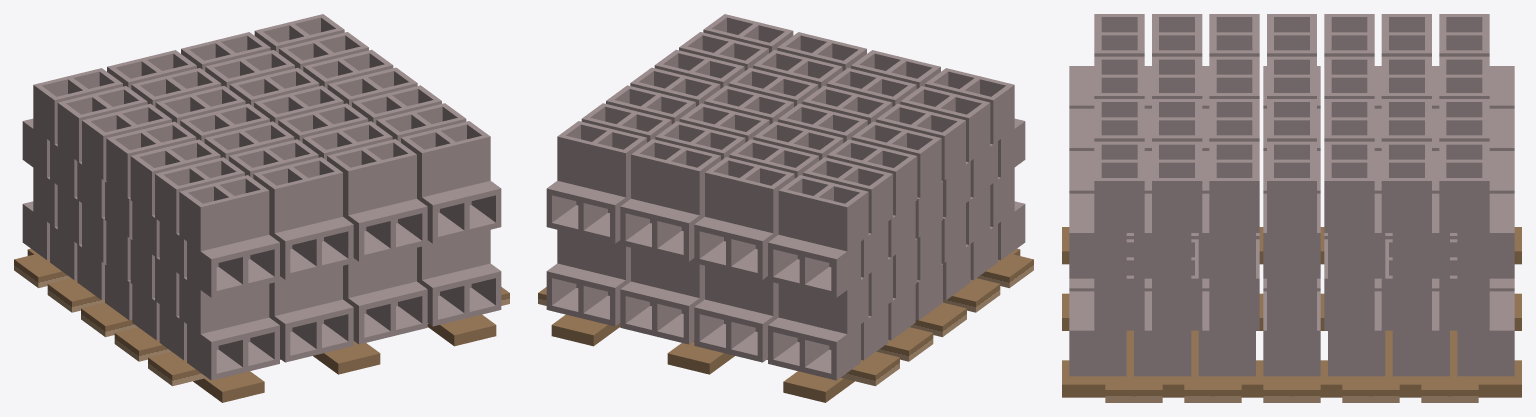
Rendered from vox_block_pallet.glb.
3 views of the same model, side by side, from view 1: azimuth 30°, elevation 25°; view 2: azimuth 150°, elevation 25°; view 3: azimuth 270°, elevation 25° (orthographic). The views are drawn at different scales.
Parts seen in each view (by area): view 1: Object_84, Object_75, Object_81, Object_78, Object_72; view 2: Object_84, Object_75, Object_81, Object_78, Object_72; view 3: Object_84, Object_81, Object_75, Object_78, Object_72.
Part boxes in pixels (x1,y1,x2,y2): Object_84: (33,14,490,251); Object_75: (22,201,501,380); Object_81: (22,118,501,297); Object_78: (33,168,490,333); Object_72: (14,248,509,402); Object_84: (557,14,1014,251); Object_75: (546,201,1025,380); Object_81: (546,118,1025,297); Object_78: (557,168,1014,333); Object_72: (538,248,1033,402); Object_84: (1094,14,1489,232); Object_81: (1069,66,1514,278); Object_75: (1069,278,1514,376); Object_78: (1094,233,1489,330); Object_72: (1062,227,1521,402).
Size of the model in its own units: 1.98 by 1.05 by 1.98.
Materials: 5 (5 with a texture image).
